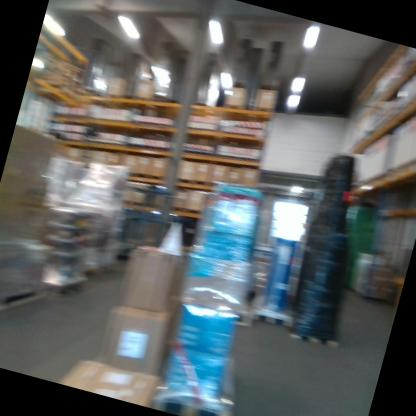pallet: (149, 333, 249, 416), (0, 264, 52, 342), (41, 261, 90, 306), (286, 316, 345, 353), (244, 295, 295, 333)
